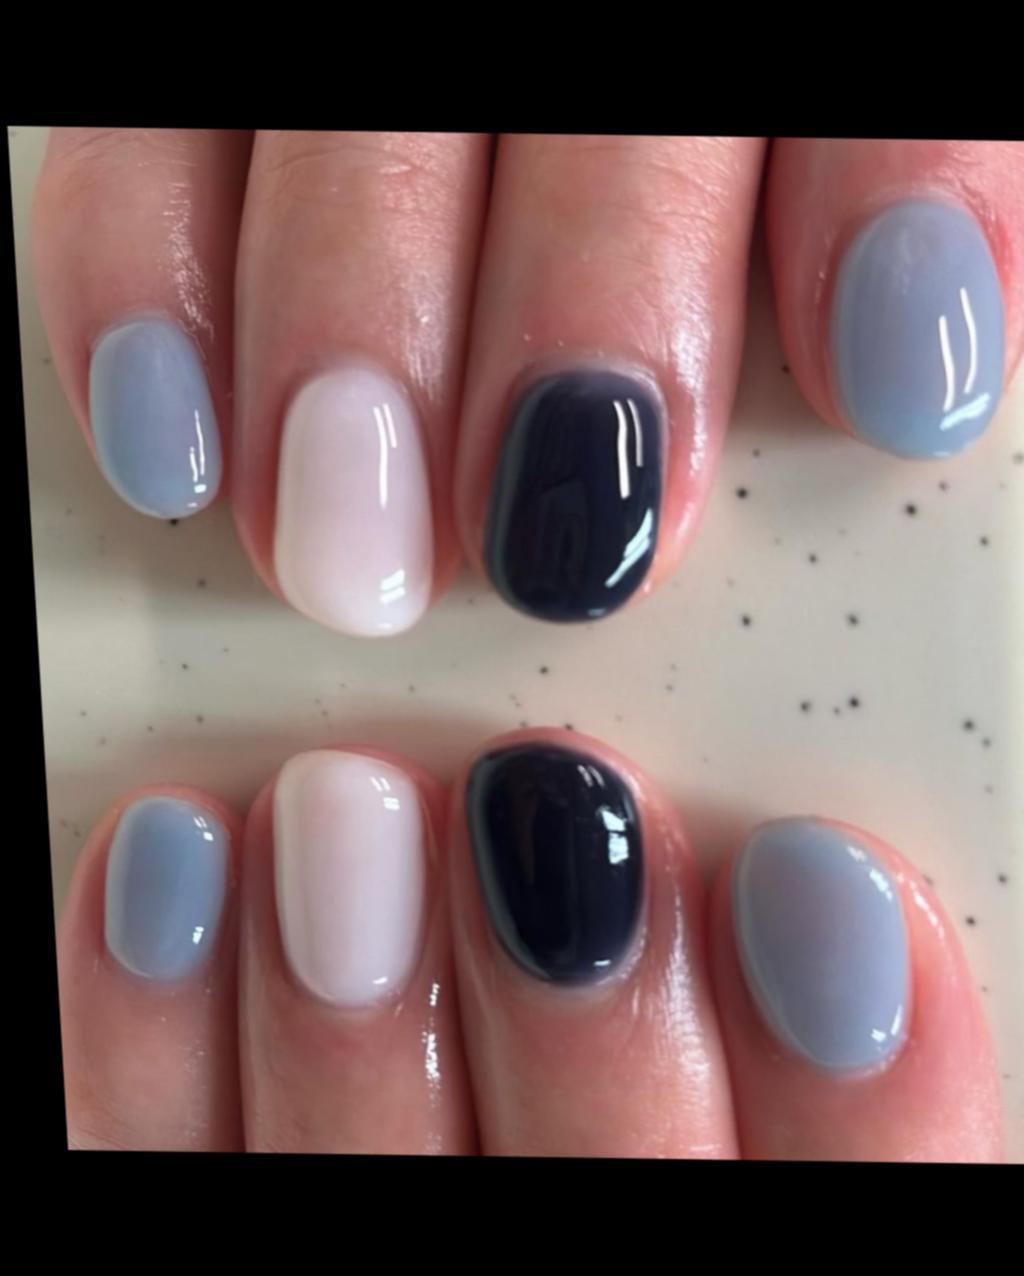nail: (471, 362, 683, 626), (259, 359, 443, 639), (264, 744, 447, 1010), (825, 198, 1003, 458), (728, 817, 909, 1072), (465, 739, 643, 988), (79, 310, 228, 520), (93, 787, 247, 983)
